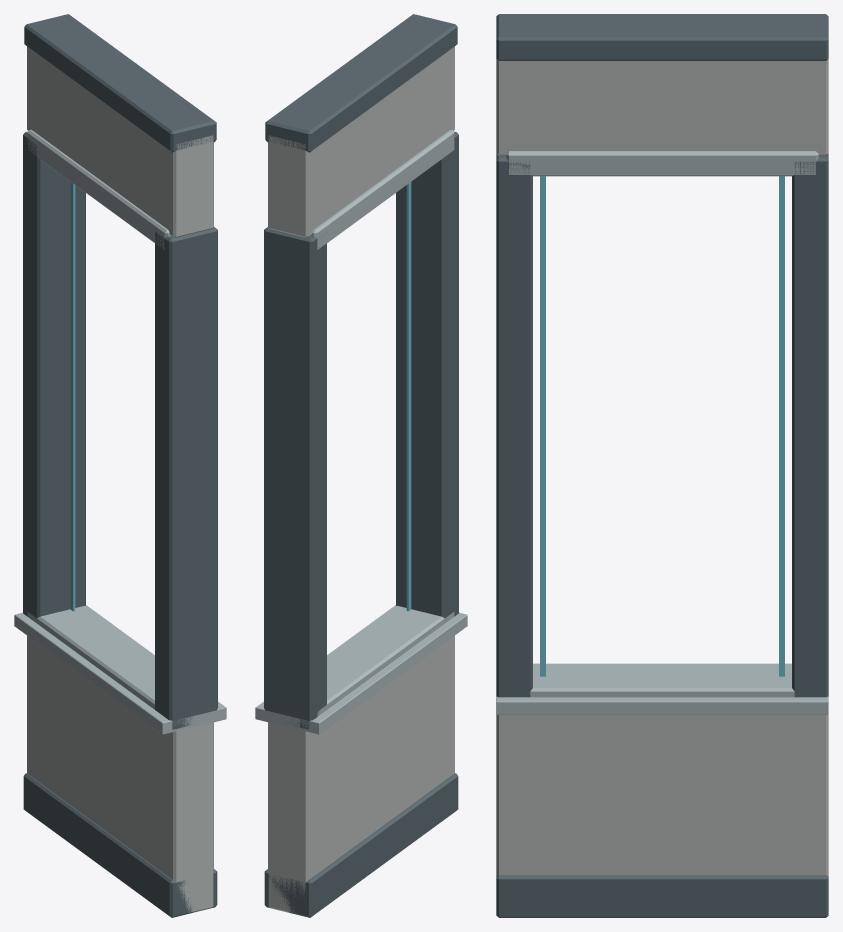
The model's file is window.glb.
The picture shows the model from 3 angles, left to right: view 1: azimuth 30°, elevation 25°; view 2: azimuth 150°, elevation 25°; view 3: azimuth 270°, elevation 25°; orthographic projection. The views are drawn at different scales.
Visible parts, largest first — view 1: Window frame.002, Concrete window sill.001, Window frame rail.002, Glass reflection.002; view 2: Window frame.002, Concrete window sill.001, Window frame rail.002, Glass reflection.002; view 3: Concrete window sill.001, Window frame.002, Window frame rail.002, Glass reflection.002.
Boxes of the visible parts, x1,y1,x2,y2 form: Window frame.002: (23, 14, 217, 917); Concrete window sill.001: (27, 46, 213, 912); Window frame rail.002: (14, 129, 226, 734); Glass reflection.002: (70, 182, 75, 611); Window frame.002: (264, 14, 458, 917); Concrete window sill.001: (268, 46, 454, 912); Window frame rail.002: (255, 129, 467, 734); Glass reflection.002: (406, 182, 411, 611); Concrete window sill.001: (496, 59, 828, 876); Window frame.002: (496, 14, 828, 917); Window frame rail.002: (496, 151, 828, 714); Glass reflection.002: (540, 176, 784, 676).
Size of the model in its own units: 0.25 by 2.93 by 1.
